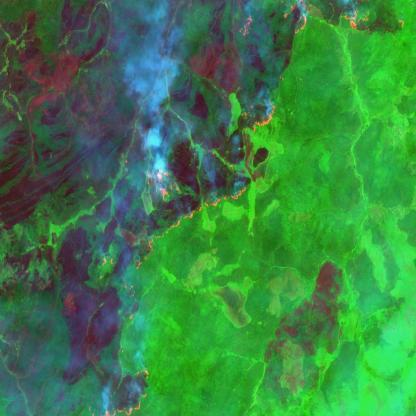fire: (88, 155, 251, 416), (238, 0, 362, 134)
